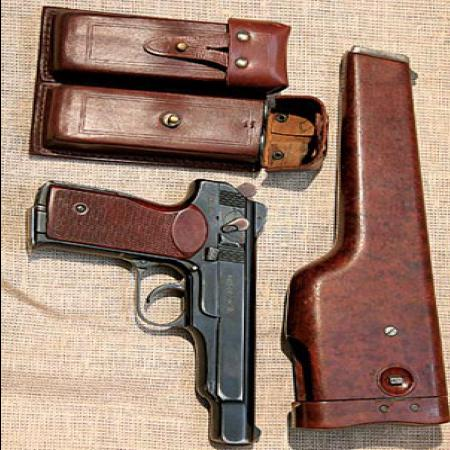Pistol: (29, 178, 266, 444)
